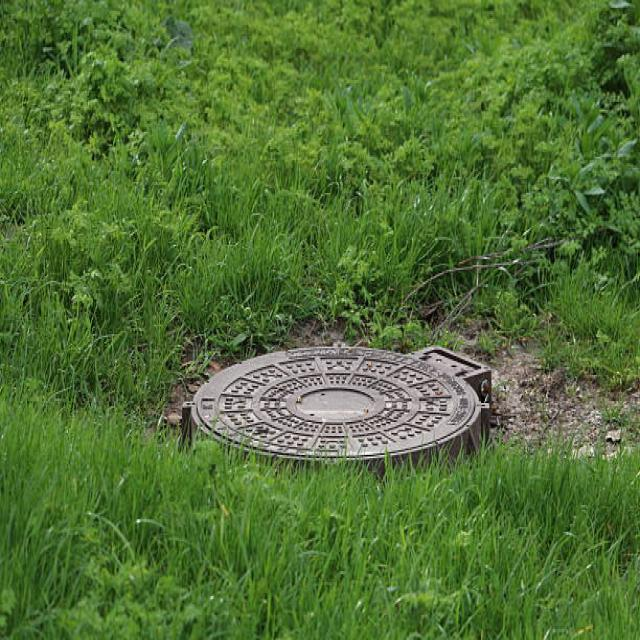Good: (179, 338, 508, 483)
